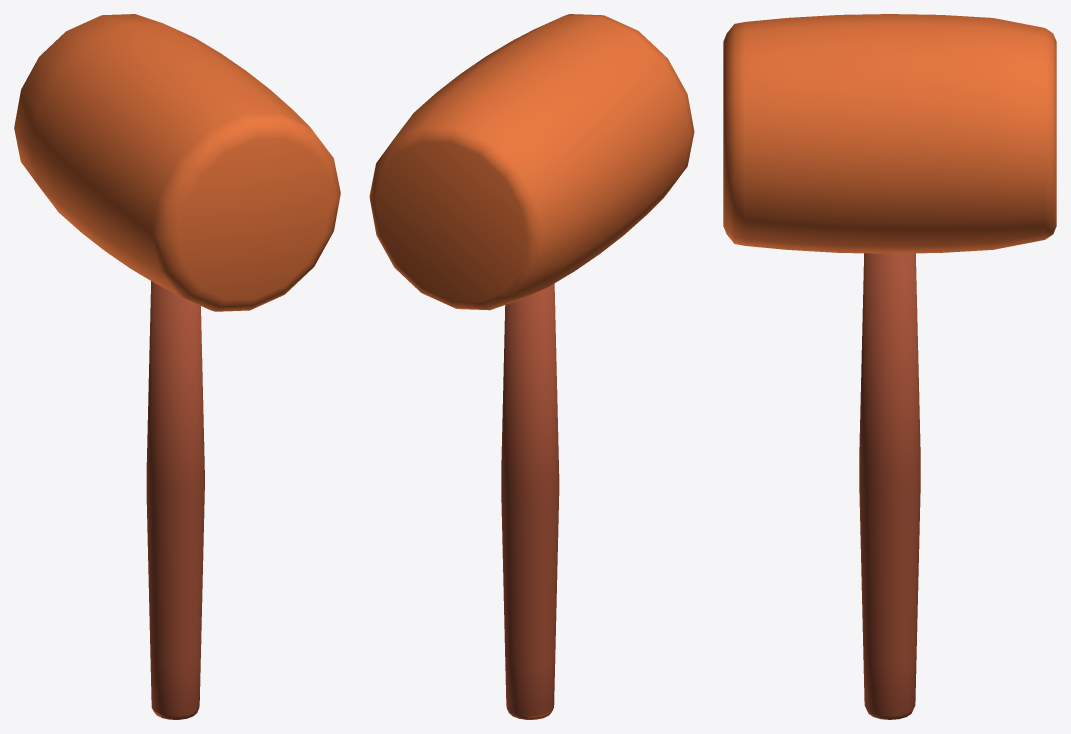
Rendered from hammer.fbx.
The picture shows the model from 3 angles, left to right: view 1: azimuth 30°, elevation 25°; view 2: azimuth 150°, elevation 25°; view 3: azimuth 270°, elevation 25°; orthographic projection. The views are drawn at different scales.
Parts seen in each view (by area): view 1: hammer; view 2: hammer; view 3: hammer.
Part boxes in pixels (<box>): hammer: <box>14,14,340,719</box>; hammer: <box>369,14,694,719</box>; hammer: <box>723,14,1056,719</box>.
Size of the model in its own units: 1.19 by 3.75 by 1.65.
